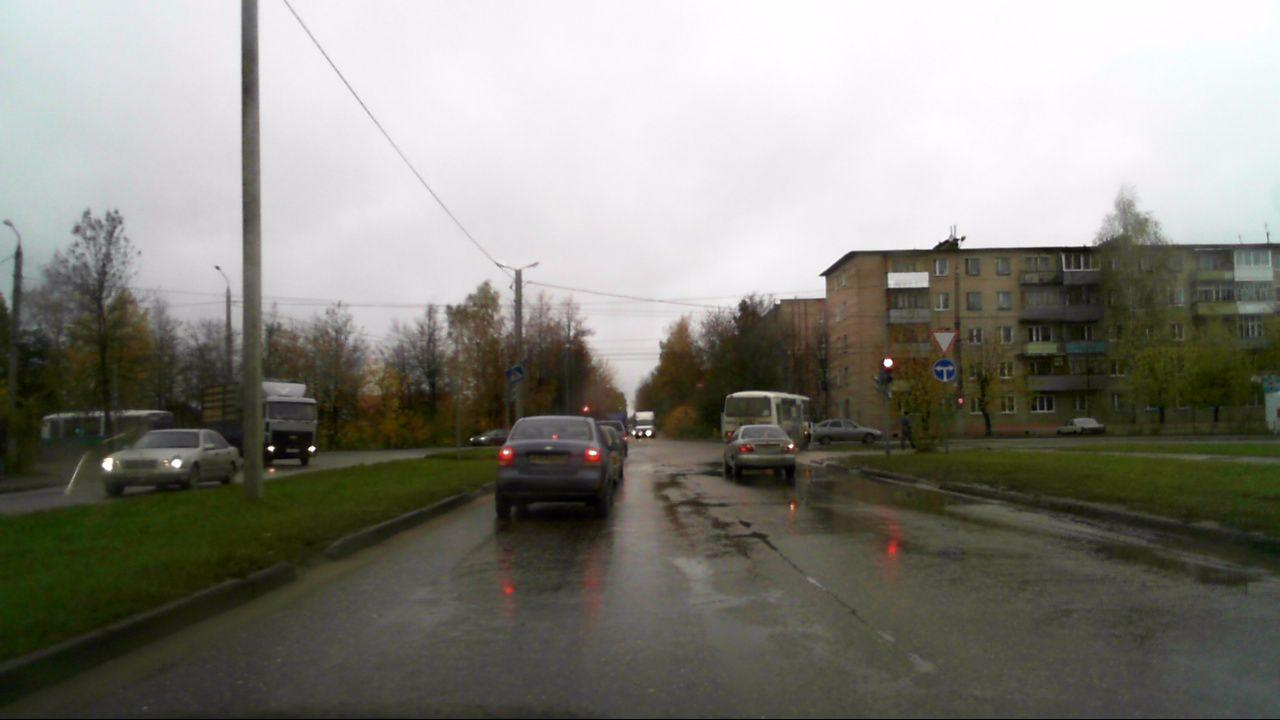road_sign: (930, 328, 962, 357), (934, 358, 956, 383)
traffic light: (881, 358, 894, 385)
